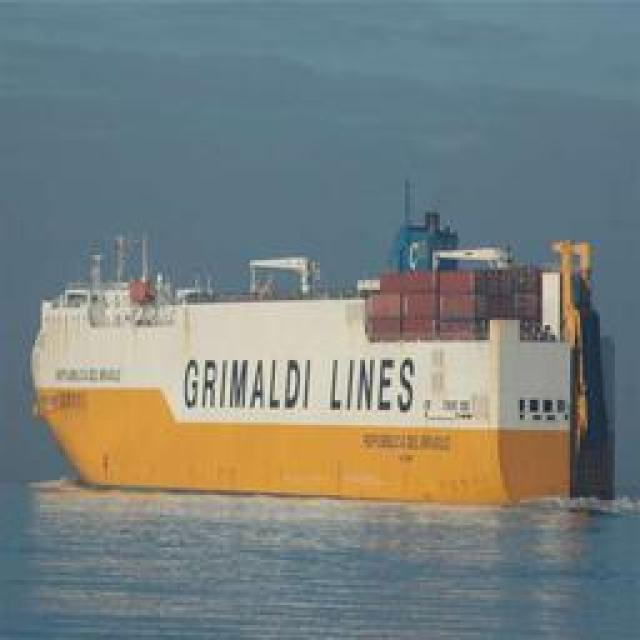Ship: (35, 205, 600, 508)
